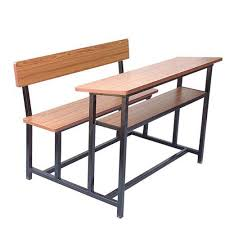Bench: (22, 60, 202, 177)
